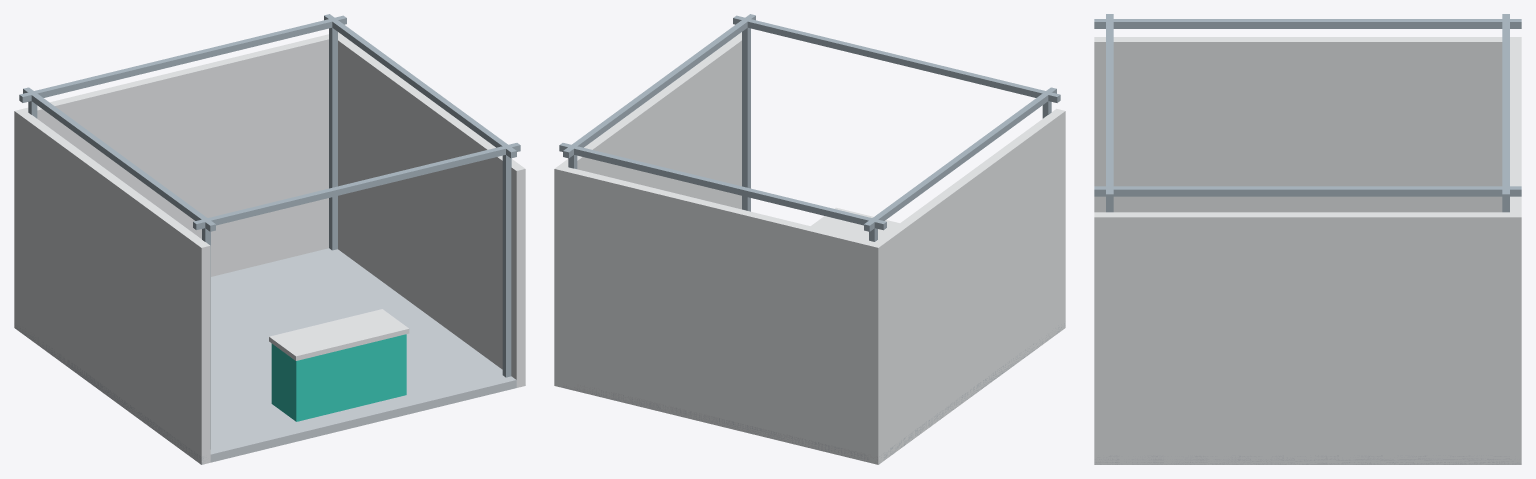
3 renders of one model, left to right at view 1: azimuth 30°, elevation 25°; view 2: azimuth 150°, elevation 25°; view 3: azimuth 270°, elevation 25°, orthographic. The views are drawn at different scales.
Visible parts, largest first — view 1: Exhibition Booth Concept; view 2: Exhibition Booth Concept; view 3: Exhibition Booth Concept.
Part boxes in pixels (bbox=[...]): Exhibition Booth Concept: bbox=[14, 14, 525, 464]; Exhibition Booth Concept: bbox=[554, 14, 1065, 464]; Exhibition Booth Concept: bbox=[1094, 14, 1521, 464].
Size of the model in its own units: 5 by 3.49 by 5.
